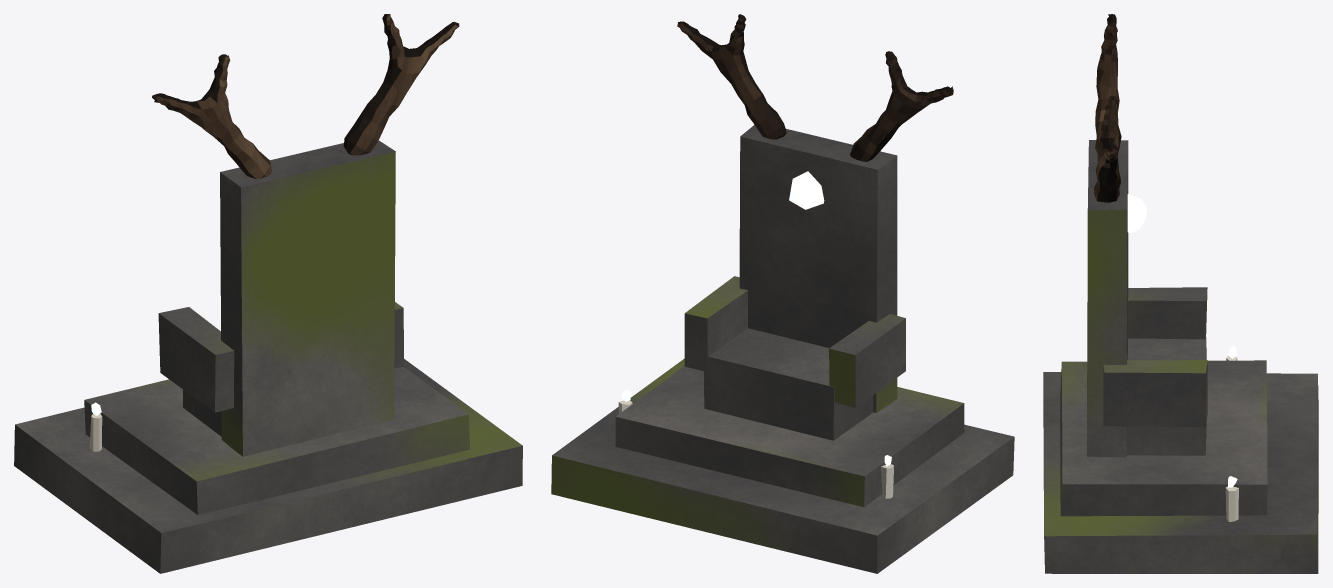
The model's file is throne.glb.
The picture shows the model from 3 angles, left to right: view 1: azimuth 30°, elevation 25°; view 2: azimuth 150°, elevation 25°; view 3: azimuth 270°, elevation 25°; orthographic projection. The views are drawn at different scales.
Parts seen in each view (by area): view 1: throne_1; view 2: throne_1; view 3: throne_1.
Boxes of the visible parts, left/top/right/bottom form: throne_1: left=14, top=14, right=522, bottom=573; throne_1: left=551, top=14, right=1014, bottom=573; throne_1: left=1043, top=14, right=1318, bottom=573.
Bounding box in the file's own units: 4.52 × 5.6 × 3.22.
5 materials, 3 textured.
